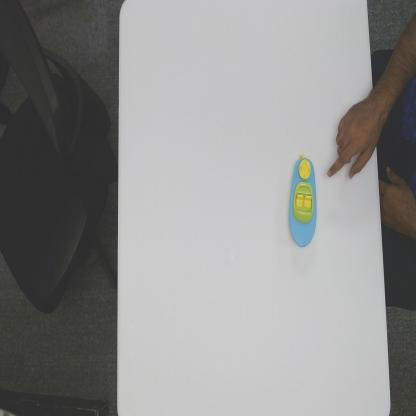Boat: (288, 152, 318, 249)
Hand: (324, 95, 377, 184)
